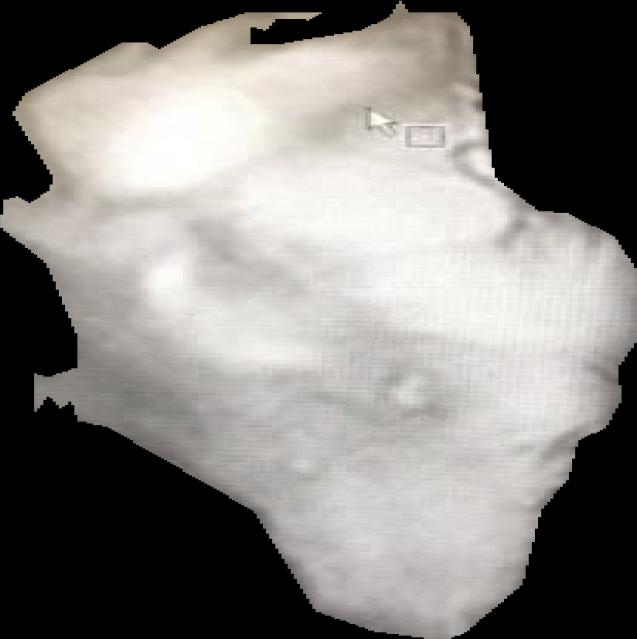tumor_moderate_chance: (0, 1, 637, 639)
